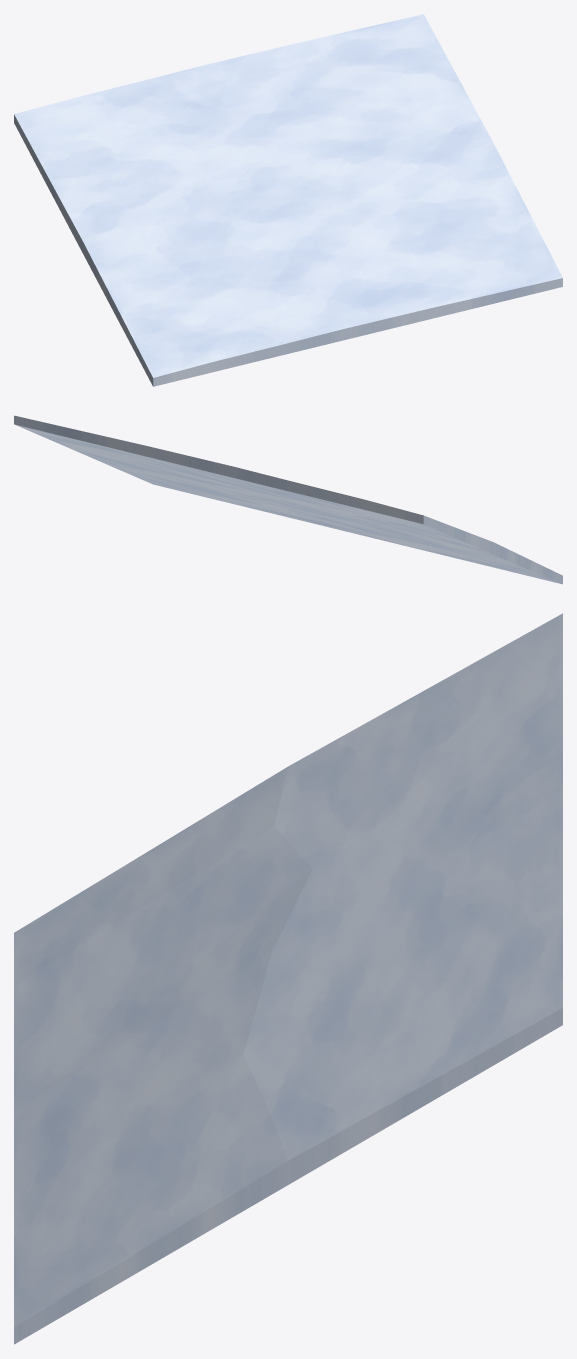
Rendered from snow_roof_slope.glb.
3 views of the same model, one above another, from view 1: azimuth 30°, elevation 25°; view 2: azimuth 150°, elevation 25°; view 3: azimuth 270°, elevation 25° (orthographic). The views are drawn at different scales.
Parts seen in each view (by area): view 1: winter_snow_roof_slope; view 2: winter_snow_roof_slope; view 3: winter_snow_roof_slope.
Part boxes in pixels (x1,y1,x2,y2): winter_snow_roof_slope: [14, 14, 562, 386]; winter_snow_roof_slope: [14, 415, 562, 584]; winter_snow_roof_slope: [14, 613, 562, 1344].
Bounding box in the file's own units: 3.4 × 1.37 × 2.
1 material, 1 textured.
